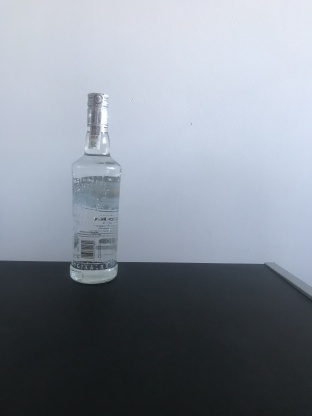nakretka: (84, 88, 111, 130)
